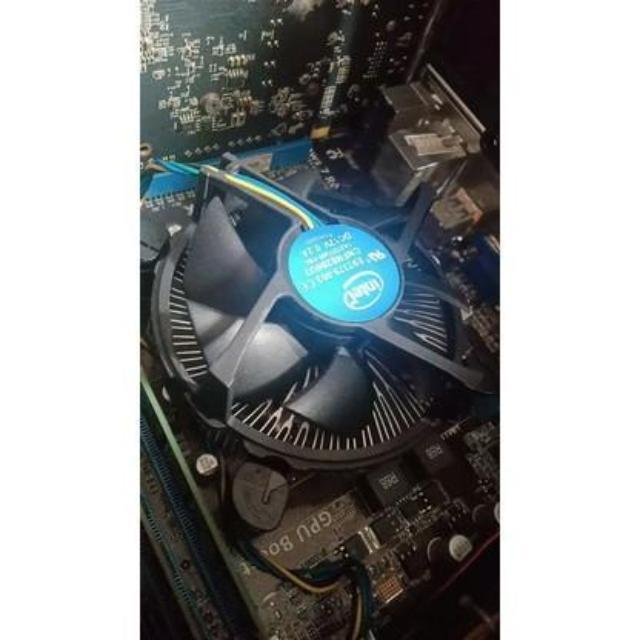CPU_Fan: (140, 161, 495, 510)
